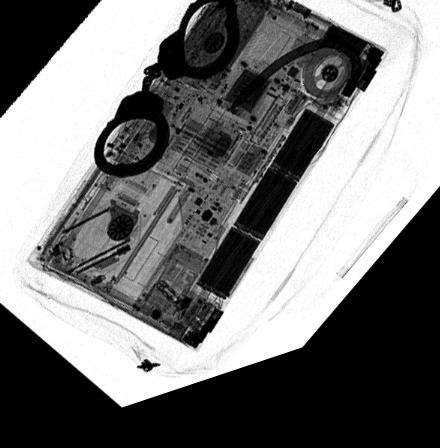HandCuffs: (90, 3, 241, 188)
